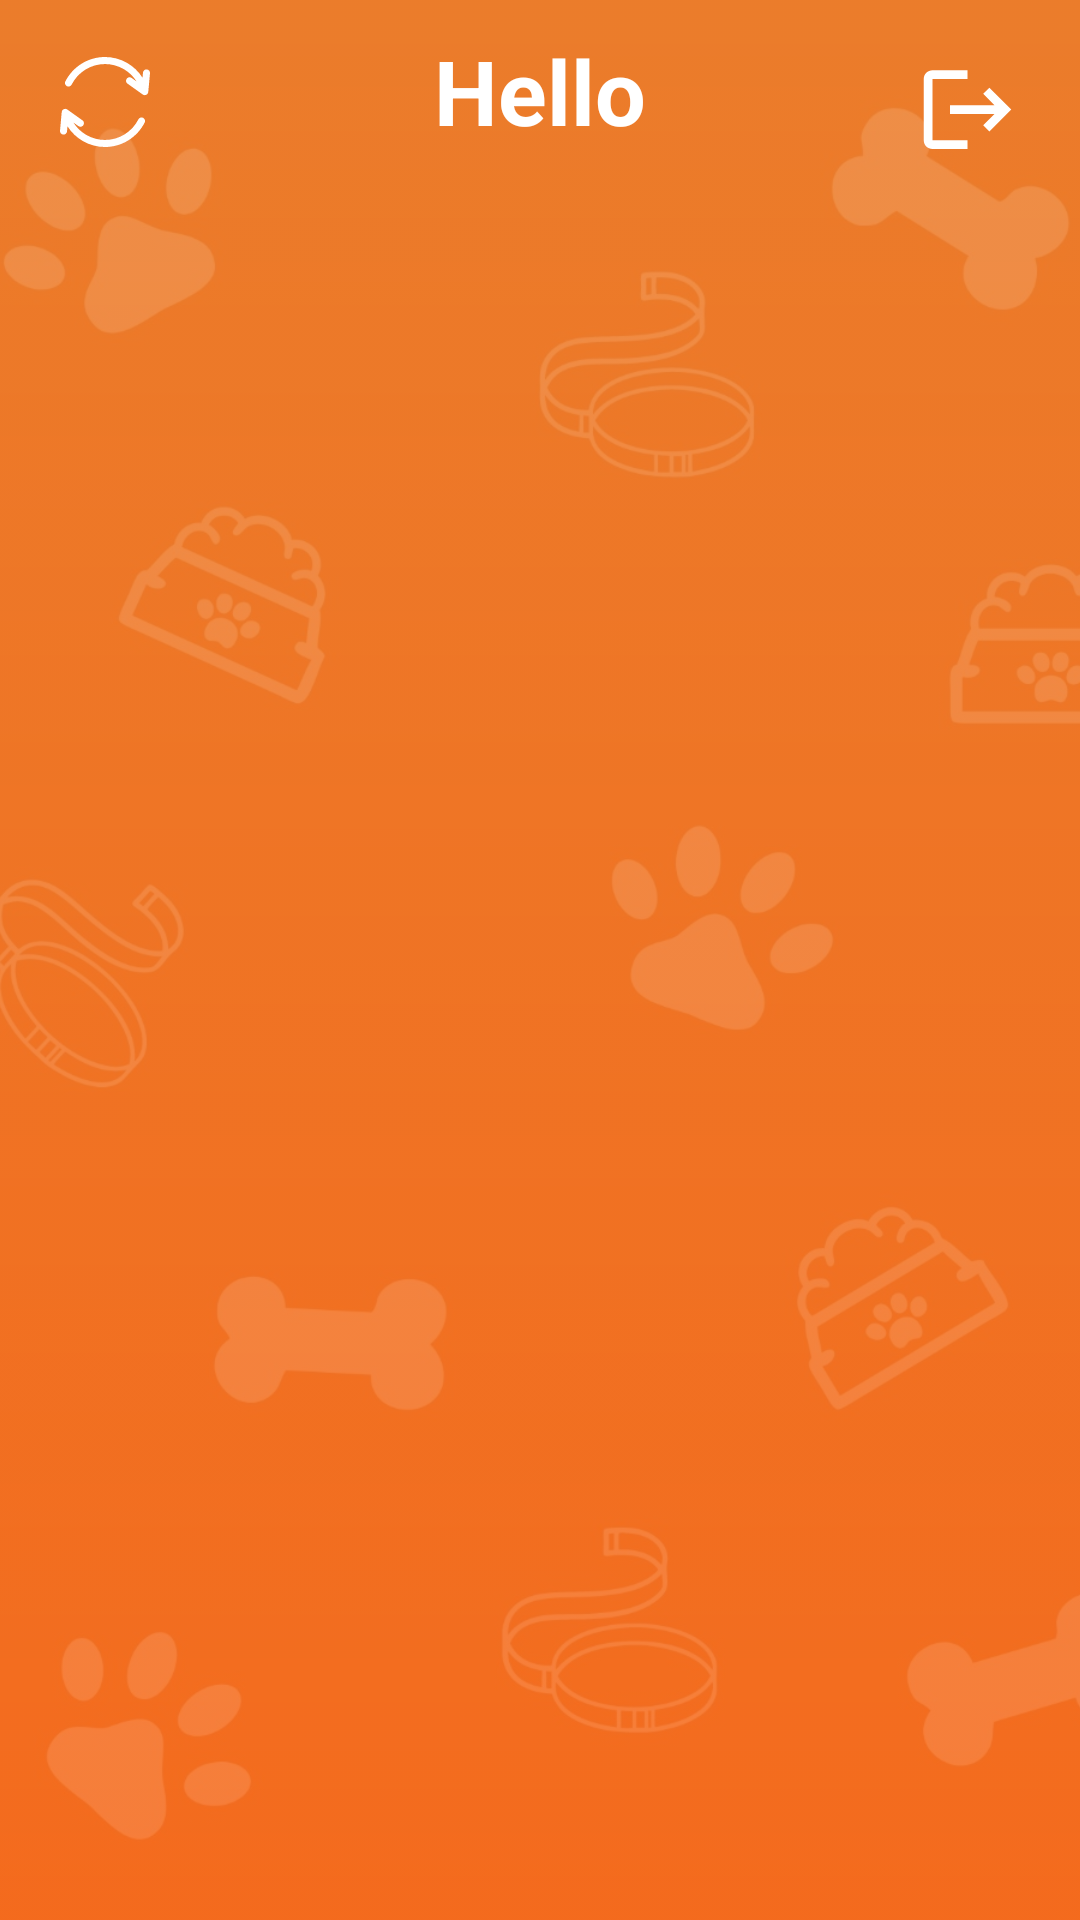

Screen size 1080x1920. Icon name, then its center in pixels as [x,y]:
refresh: [109,123]
